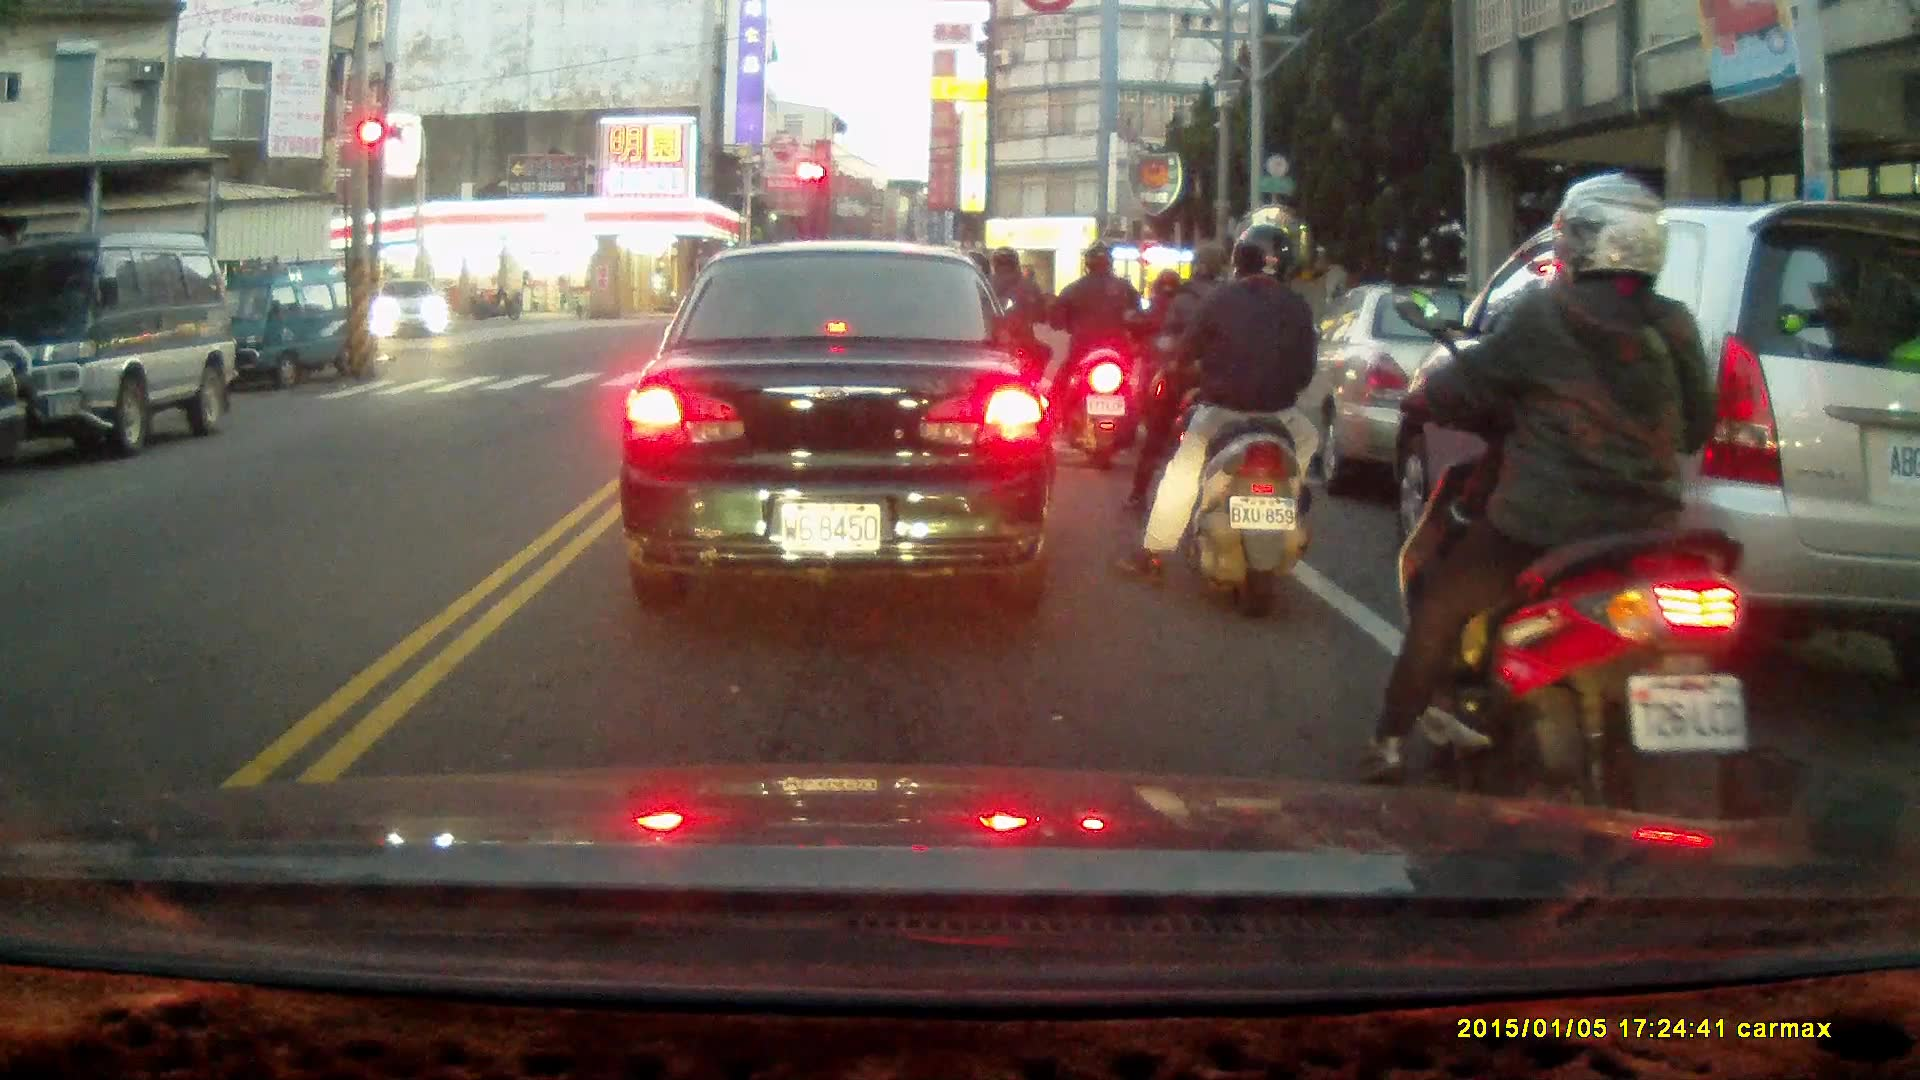rider: (1367, 167, 1803, 867), (1116, 226, 1318, 615), (1123, 236, 1259, 545), (1048, 244, 1142, 469), (968, 244, 1053, 435), (1132, 267, 1203, 449)
vehicle: (1391, 195, 1920, 685), (617, 243, 1061, 606), (1280, 278, 1609, 502), (1, 234, 239, 458), (194, 255, 381, 393), (372, 277, 451, 343)
